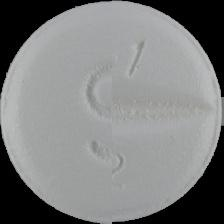43547-361: (0, 0, 224, 224)
